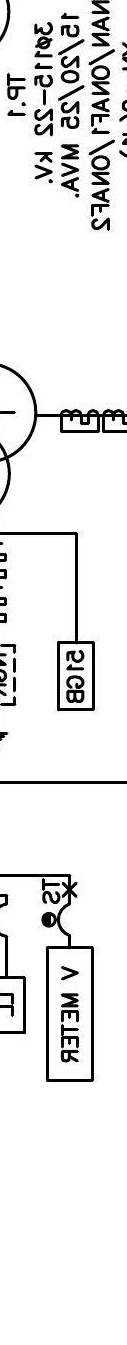v_m_digital: (45, 945, 95, 1083)
